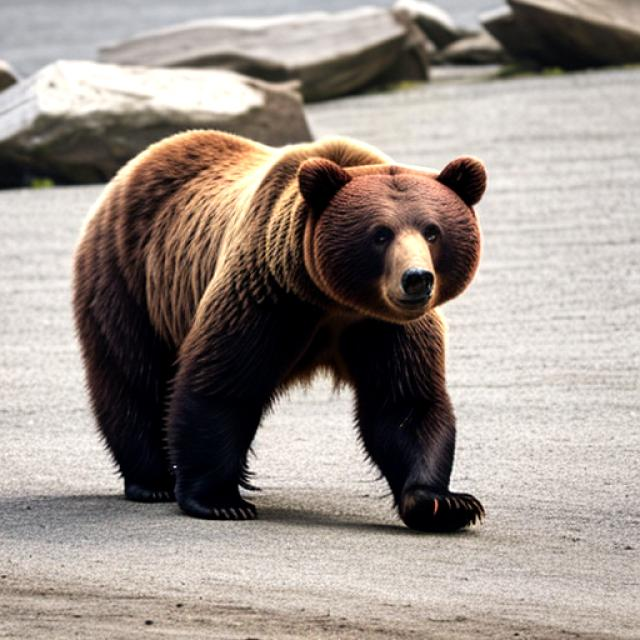bear: (69, 132, 511, 555)
